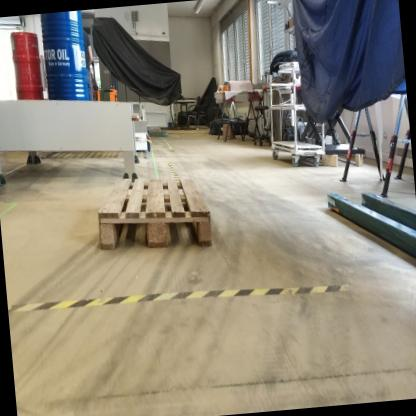BoxFace: (95, 173, 217, 257)
